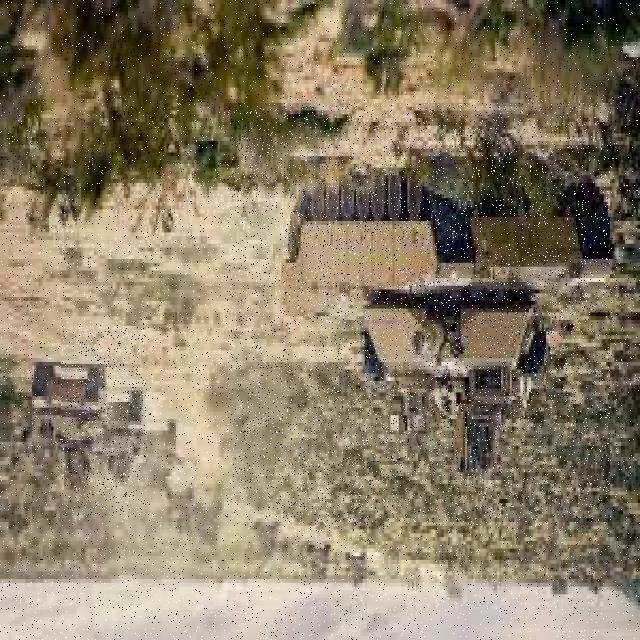MIL_MBT: (227, 103, 609, 525), (61, 322, 146, 515), (133, 408, 196, 483)
